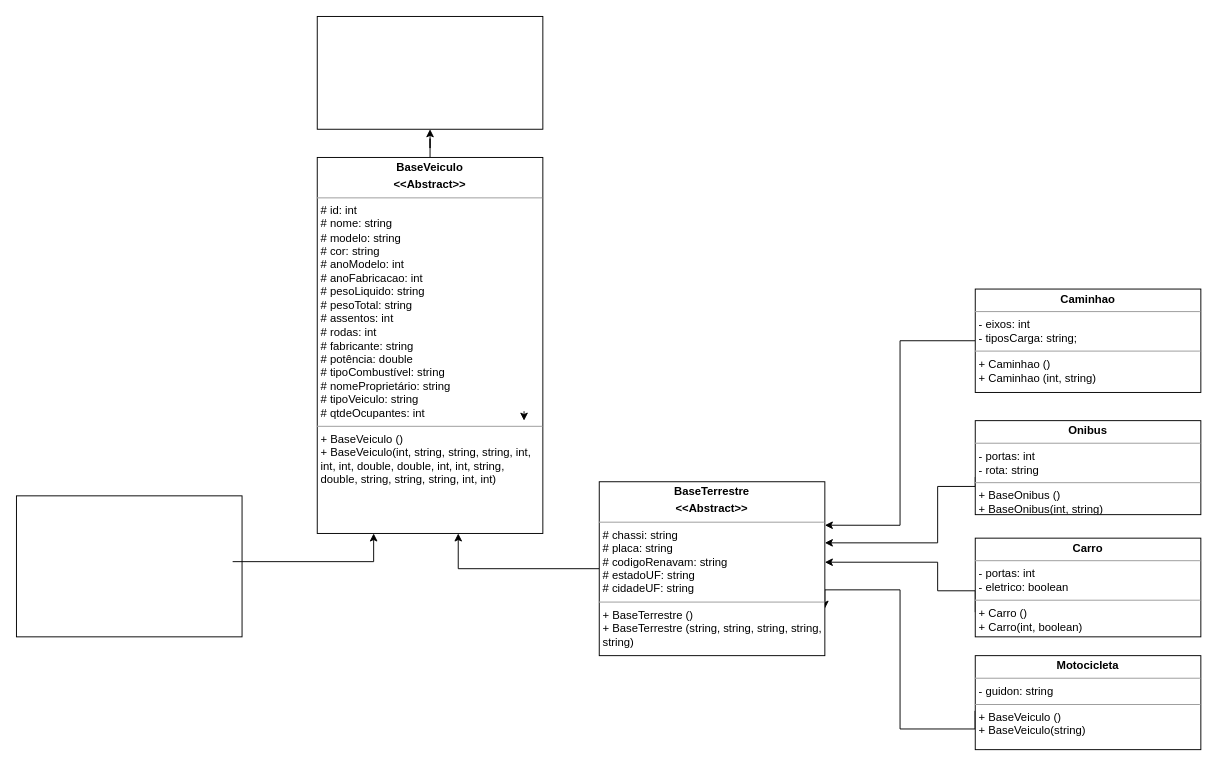
Image size: 1217x766. Some labels were removed from this diagram. The centre of each missing label's shape, as x and y in pixels:
"Aviao - qtdeMotores: int - registroAereo: string + Aviao () + Aviao(int, string)" belongs at [129,566].
"BaseId <<Abstract>> # id: int + Id() + Id(int)" belongs at [429,72].
